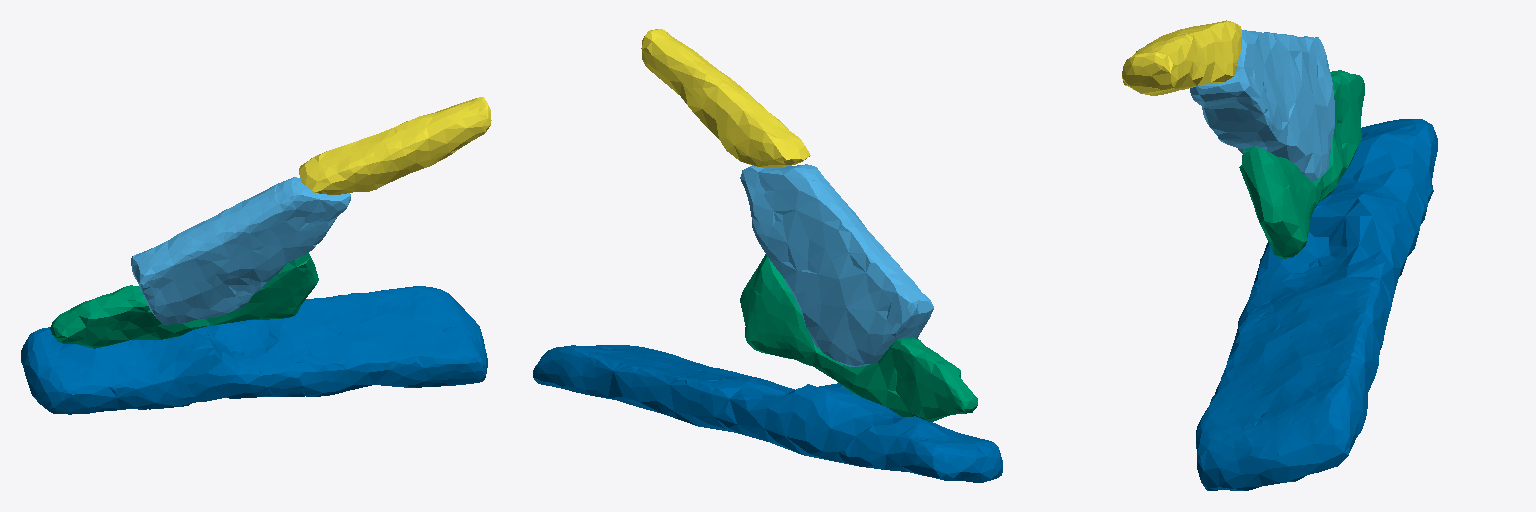
The robot description file, URDF, robot "stapler":
<robot name="stapler">

            <link name="base"/>

            <joint name="world_joint" type="fixed">
                <origin rpy="0 0 0" xyz="0 0 0.0"/>
                <parent link="base"/>
                <child link="link_3"/>
            </joint>

            <link name="link_3">
                <visual>
                <geometry>
                    <mesh filename="textured_mesh_3.obj" />
                </geometry>
                <material>
                    <texture filename="textured_mesh_3.png" />
                </material>
                </visual>
                <collision>
                <geometry>
                    <mesh filename="textured_mesh_3.obj" />
                </geometry>
                </collision>
            </link>

            <joint name="link_3_to_link_2" type="revolute">
                <parent link="link_3" />
                <child link="link_2" />
                <origin xyz="0.00010278448462486267 0.00908517837524414 -0.02698822319507599" rpy="0.0 0.0 0.0" />
                <axis xyz="-0.7659048128355673 -0.4246052131784336 -0.48280454701360426" />
                <limit lower="-0.1881982386112213" upper="0.7098816633224487" effort="10" velocity="1.0"/>
                <dynamics damping="0.5"/>
            </joint>

            
            <link name="link_2">
                <visual>
                <geometry>
                    <mesh filename="textured_mesh_2.obj" />
                </geometry>
                <material>
                    <texture filename="textured_mesh_2.png" />
                </material>
                </visual>
                <collision>
                <geometry>
                    <mesh filename="textured_mesh_2.obj" />
                </geometry>
                </collision>
            </link>

            <joint name="link_3_to_link_1" type="revolute">
                <parent link="link_3" />
                <child link="link_1" />
                <origin xyz="0.048319682478904724 -0.020215511322021484 0.04017510265111923" rpy="0.0 0.0 0.0" />
                <axis xyz="-0.9796701125200611 0.1768484628968043 -0.0947158477023165" />
                <limit lower="-0.473804235458374" upper="1.6184465885162354" effort="10" velocity="1.0"/>
                <dynamics damping="0.5"/>
            </joint>
            
            <link name="link_1">
                <visual>
                <geometry>
                    <mesh filename="textured_mesh_1.obj" />
                </geometry>
                <material>
                    <texture filename="textured_mesh_1.png" />
                </material>
                </visual>
                <collision>
                <geometry>
                    <mesh filename="textured_mesh_1.obj" />
                </geometry>
                </collision>
            </link>




             <joint name="link_3_to_link_0" type="revolute">
                <parent link="link_3" />
                <child link="link_0" />
                <origin xyz="-0.02173714153468609 0.017945200204849243 -0.057586535811424255" rpy="0.0 0.0 0.0" />
                <axis xyz="-0.04995648038059518 -0.9832701080878565 -0.17516918852605973" />
                <limit lower="-0.13204704225063324" upper="0.6844573020935059" effort="10" velocity="1.0"/>
                <dynamics damping="0.5"/>
            </joint>
            
            <link name="link_0">
                <visual>
                <geometry>
                    <mesh filename="textured_mesh_0.obj" />
                </geometry>
                <material>
                    <texture filename="textured_mesh_0.png" />
                </material>
                </visual>
                <collision>
                <geometry>
                    <mesh filename="textured_mesh_0.obj" />
                </geometry>
                </collision>
            </link>
            
</robot>

--- Facts derived from the render (not from the file) ---
The picture shows the robot from 3 angles, left to right: view 1: azimuth 30°, elevation 25°; view 2: azimuth 150°, elevation 25°; view 3: azimuth 270°, elevation 25°; orthographic projection.
Robot: stapler — 5 links, 4 joints (3 revolute, 1 fixed); root link base; default pose: all joints at 0.
Links seen in each view (by area): view 1: link_0, link_3, link_1, link_2; view 2: link_0, link_3, link_2, link_1; view 3: link_0, link_3, link_2, link_1.
Link boxes in pixels (x1,y1,x2,y2): link_0: [21, 286, 487, 414]; link_3: [131, 177, 350, 324]; link_1: [299, 97, 491, 194]; link_2: [50, 252, 318, 348]; link_0: [533, 345, 1002, 482]; link_3: [740, 164, 933, 366]; link_2: [740, 254, 977, 421]; link_1: [641, 29, 810, 167]; link_0: [1196, 119, 1437, 490]; link_3: [1190, 30, 1334, 181]; link_2: [1239, 70, 1364, 258]; link_1: [1122, 20, 1242, 95].
Size in the robot's own frame: 0.3075 by 0.1431 by 0.2115 metres.
4 mesh visuals loaded from 4 distinct referenced files (4 OBJ).